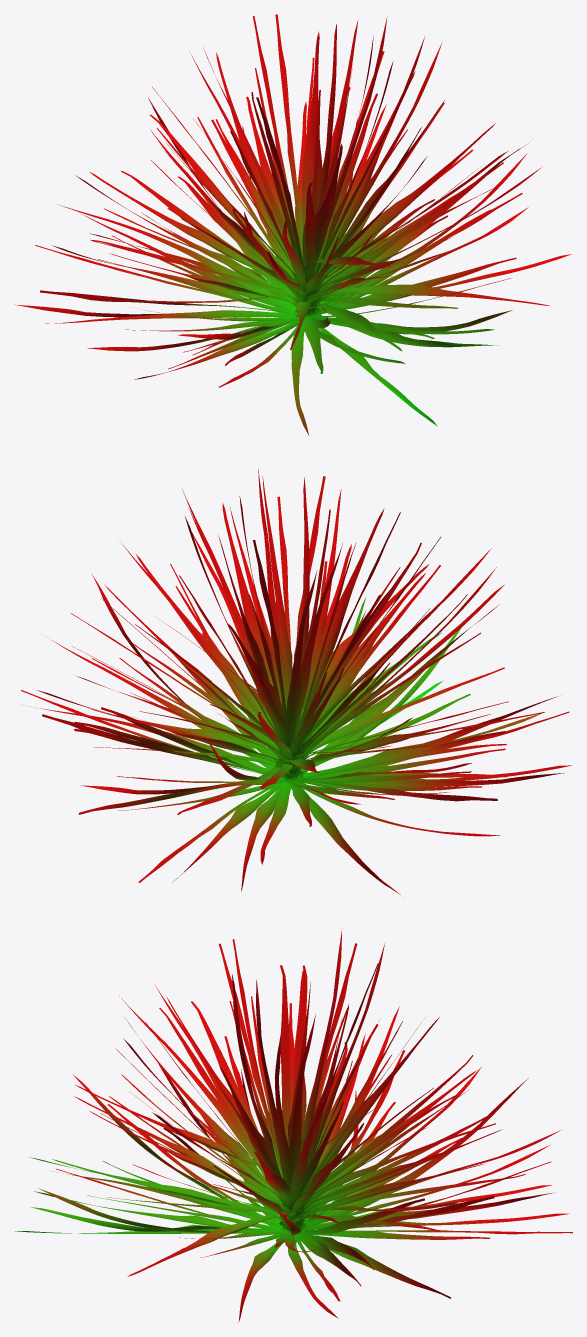
The model's file is Var11_LOD0.fbx.
The picture shows the model from 3 angles, top to bottom: view 1: azimuth 30°, elevation 25°; view 2: azimuth 150°, elevation 25°; view 3: azimuth 270°, elevation 25°; orthographic projection. The views are drawn at different scales.
Parts seen in each view (by area): view 1: _1va9_Var11_LOD0; view 2: _1va9_Var11_LOD0; view 3: _1va9_Var11_LOD0.
Part boxes in pixels (x1,y1,x2,y2): _1va9_Var11_LOD0: (15,14,571,435); _1va9_Var11_LOD0: (21,468,571,896); _1va9_Var11_LOD0: (15,928,572,1322).
Size of the model in its own units: 98.74 by 56.5 by 98.73.
